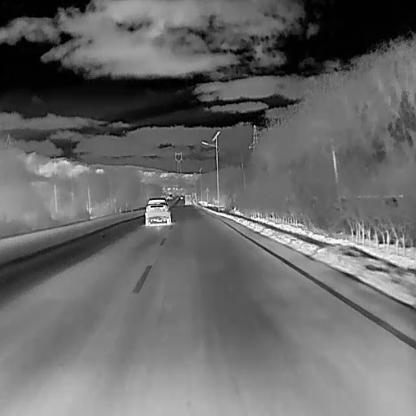car: (144, 196, 172, 226), (184, 194, 191, 207), (168, 193, 173, 199), (179, 194, 183, 199)
